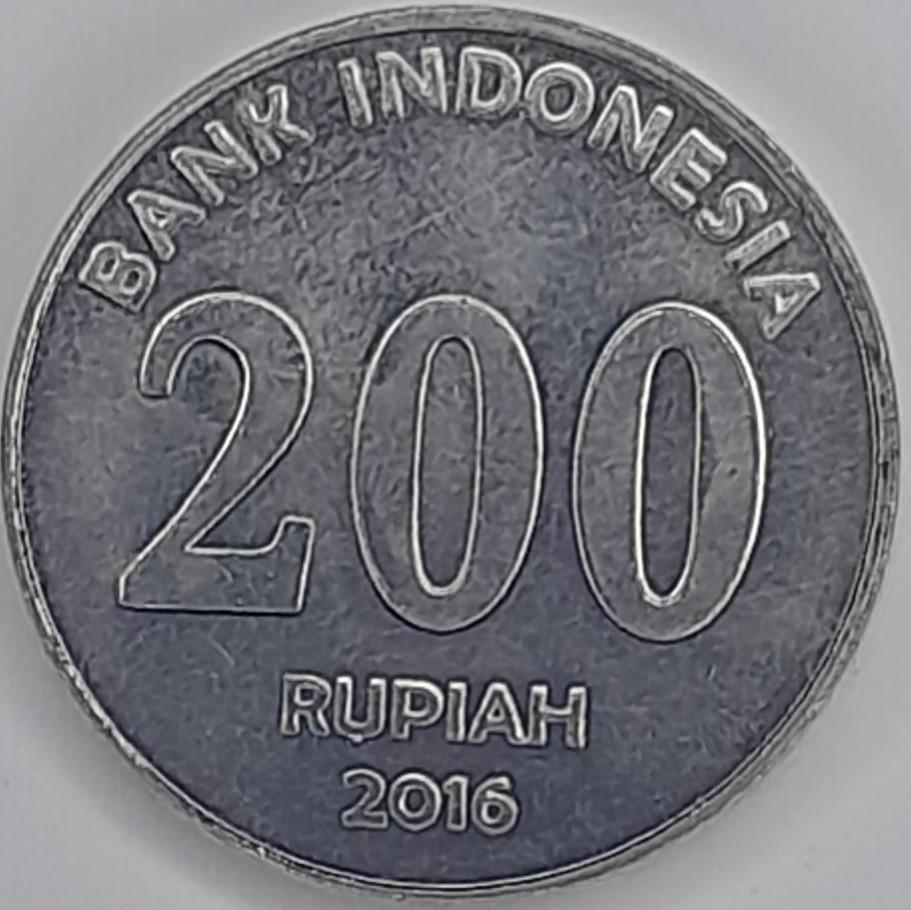coin_200_e2016: (0, 16, 911, 910)
